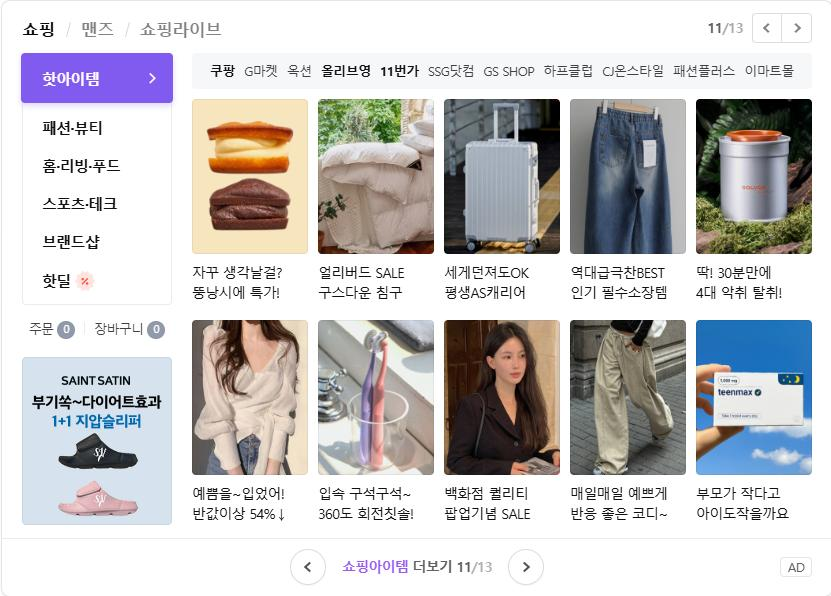button: (41, 155, 173, 183), (40, 67, 162, 93), (40, 123, 155, 146), (49, 196, 147, 219), (34, 235, 117, 256), (751, 14, 809, 42), (142, 18, 217, 38), (93, 317, 171, 333), (41, 264, 92, 288), (678, 63, 732, 83), (22, 320, 76, 339), (516, 553, 552, 580), (81, 21, 122, 42), (483, 63, 540, 78), (546, 61, 597, 77), (427, 61, 477, 77), (745, 63, 798, 78), (292, 553, 322, 579), (604, 65, 667, 77), (376, 62, 420, 79), (321, 63, 368, 78), (208, 59, 238, 76), (28, 18, 57, 35), (253, 65, 279, 80), (287, 65, 313, 80)
